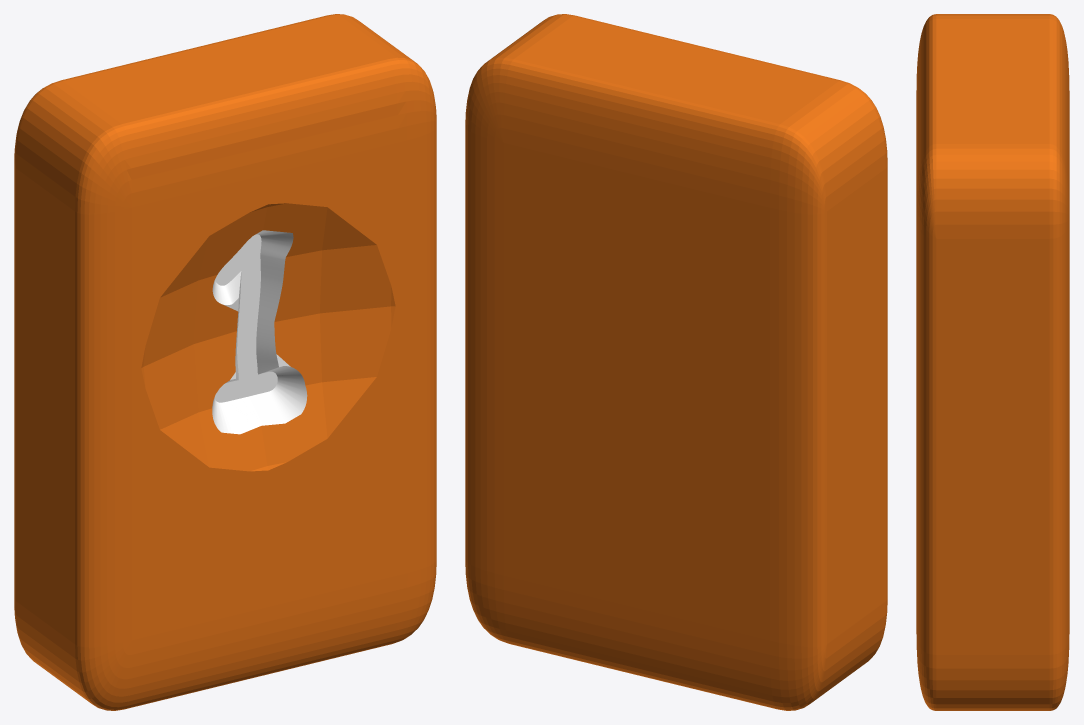
File: Rummikub Card 1.FBX
3 views of the same model, side by side, from view 1: azimuth 30°, elevation 25°; view 2: azimuth 150°, elevation 25°; view 3: azimuth 270°, elevation 25° (orthographic). The views are drawn at different scales.
Parts seen in each view (by area): view 1: CardModel; view 2: CardModel; view 3: CardModel.
Boxes of the visible parts, x1,y1,x2,y2 form: CardModel: (14, 14, 436, 710); CardModel: (465, 14, 887, 710); CardModel: (916, 14, 1069, 710).
Size of the model in its own units: 44.87 by 69.66 by 17.19.
